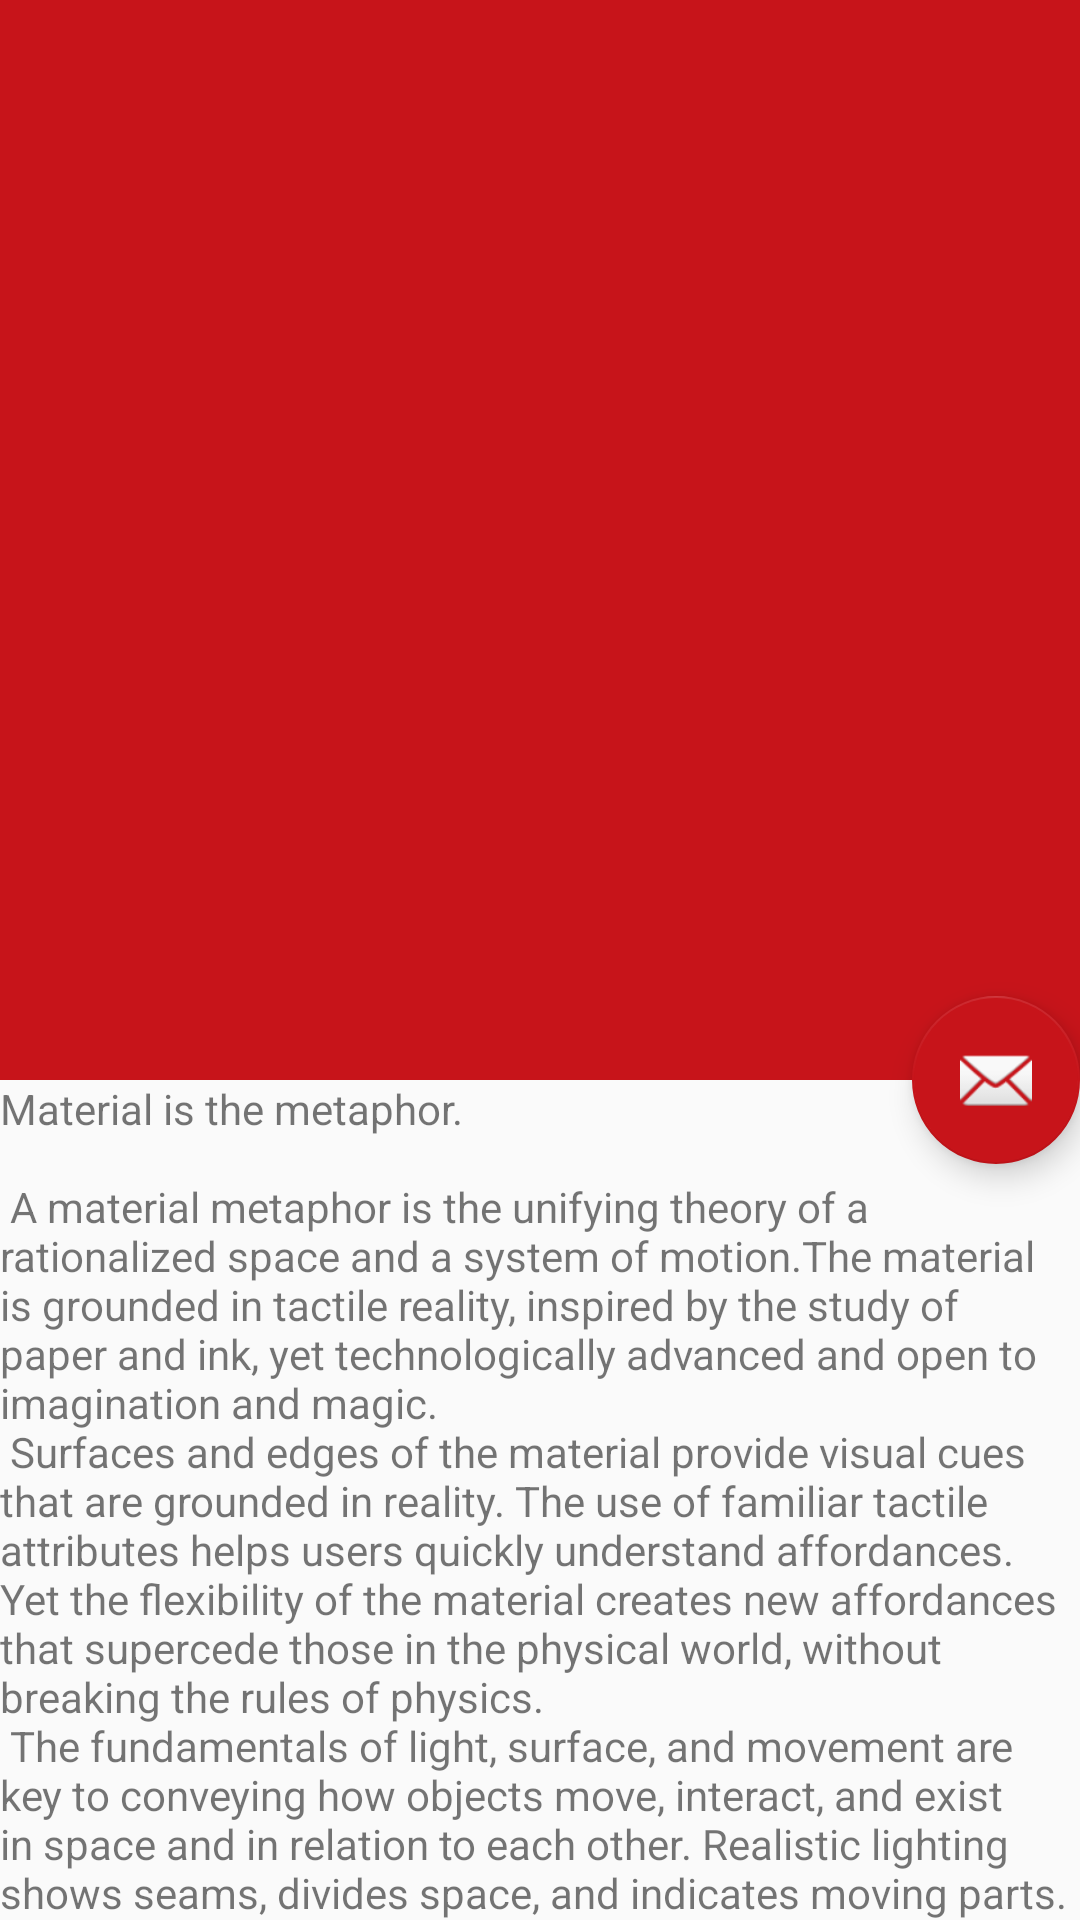

Named icons in this screenshot (1080*1920) and their centers, (x,y):
email: (996,1080)
